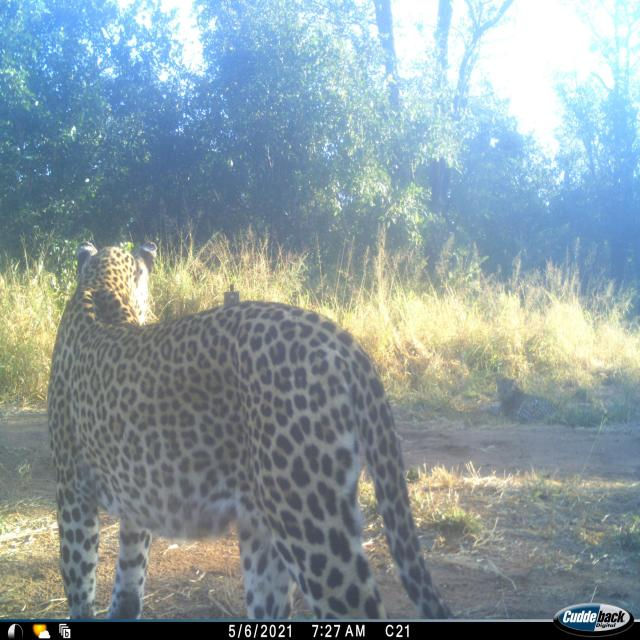Leopard: (42, 249, 516, 640)
